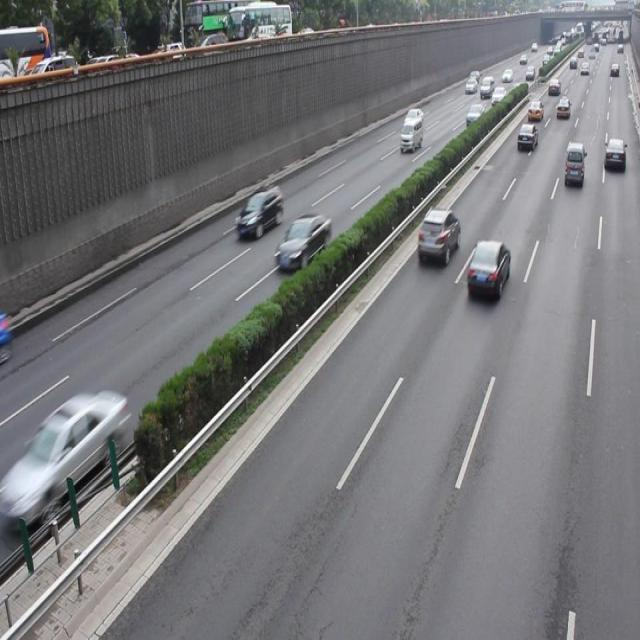car: (15, 390, 124, 524), (274, 212, 332, 272), (465, 238, 510, 299), (235, 184, 283, 239), (416, 204, 459, 265)
truck: (562, 142, 583, 186)
